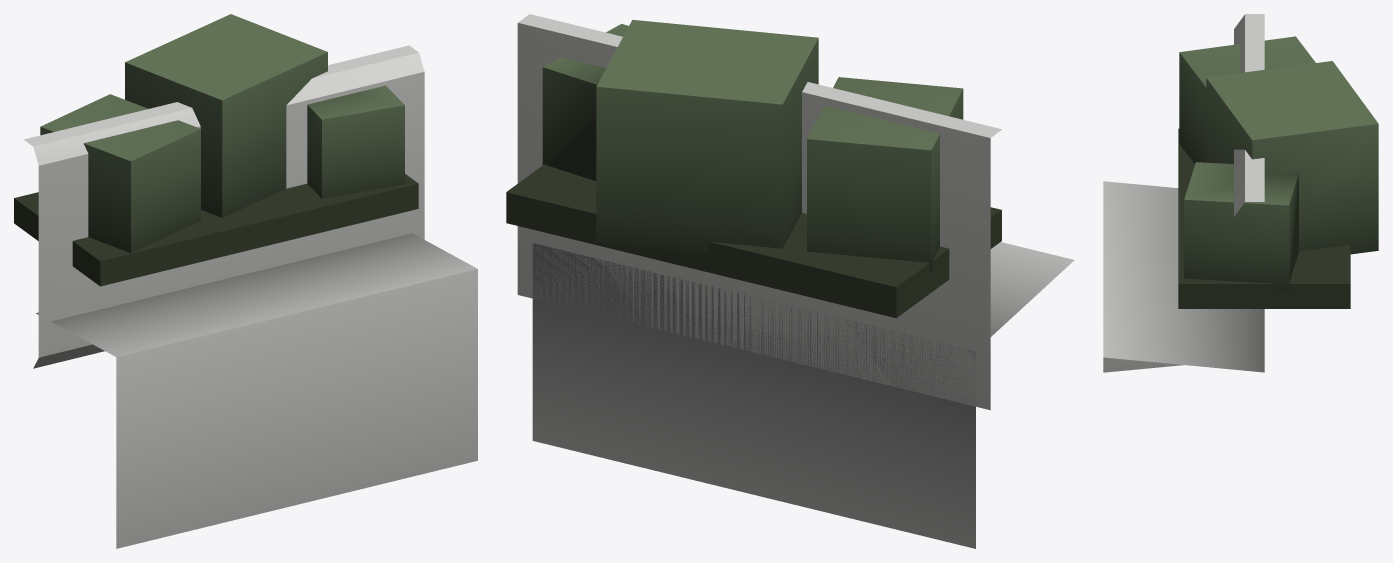
File: planter.lod1.glb
3 renders of one model, left to right at view 1: azimuth 30°, elevation 25°; view 2: azimuth 150°, elevation 25°; view 3: azimuth 270°, elevation 25°, orthographic. The views are drawn at different scales.
Parts seen in each view (by area): view 1: props_planter.lod1; view 2: props_planter.lod1; view 3: props_planter.lod1.
Part boxes in pixels (left/top/right/bottom): props_planter.lod1: left=14, top=14, right=477, bottom=548; props_planter.lod1: left=506, top=14, right=1074, bottom=548; props_planter.lod1: left=1103, top=14, right=1378, bottom=372.
Bounding box in the file's own units: 1.6 × 1.48 × 0.9902.
